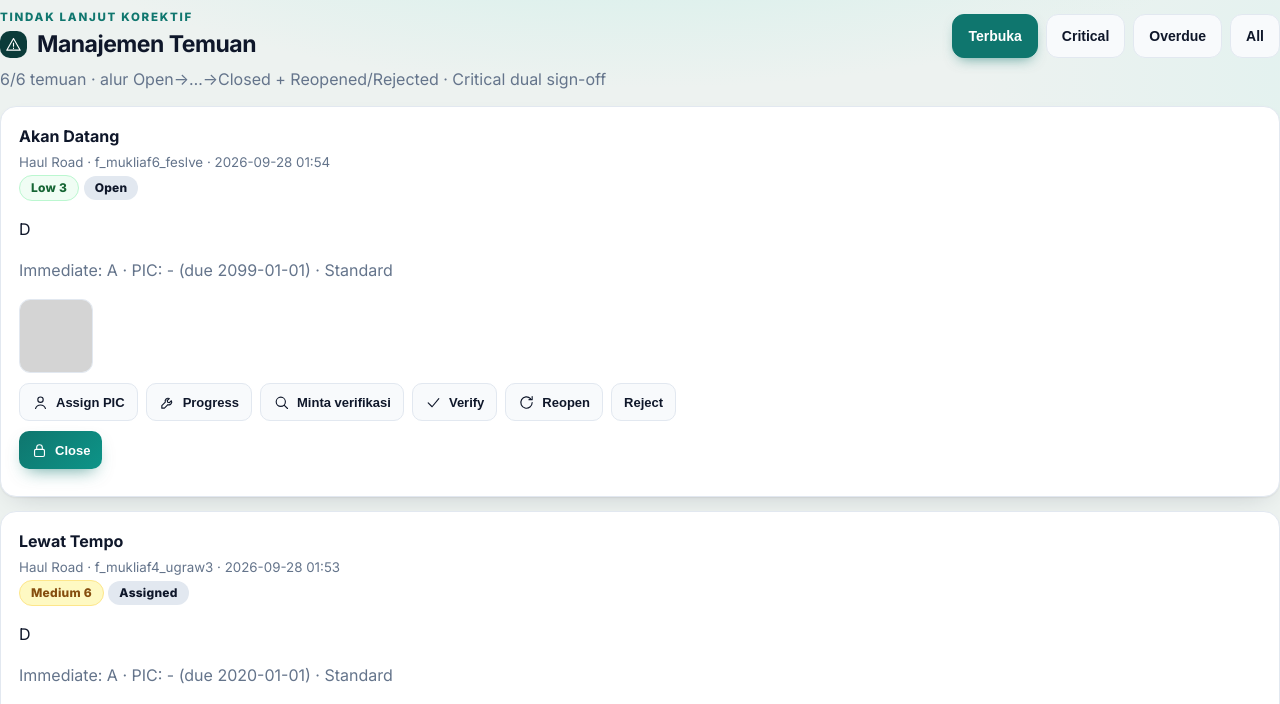
Findings › PATROL ditolak verify/close; CRITICAL dual sign-off HSE_ADMIN
The width and height of the screenshot is (1280, 704).
Expected: the heading "Manajemen Temuan" is shown, [0,30,256,58]
Click the button "Verify".
click(455, 402)  # box [412,383,497,421]
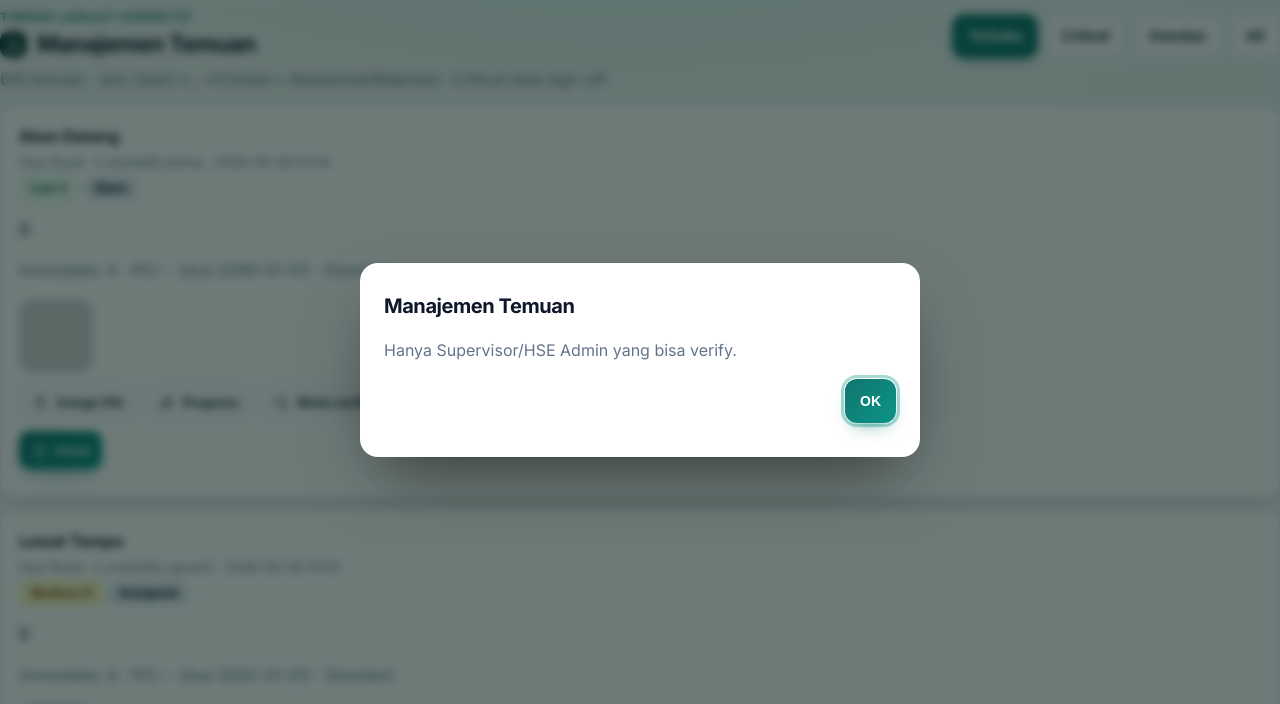
Now the text "Hanya Supervisor/HSE Admin yang bisa verify." is shown, box [384,340,737,360]
Click the button "OK".
click(870, 401)  # box [845,379,896,423]
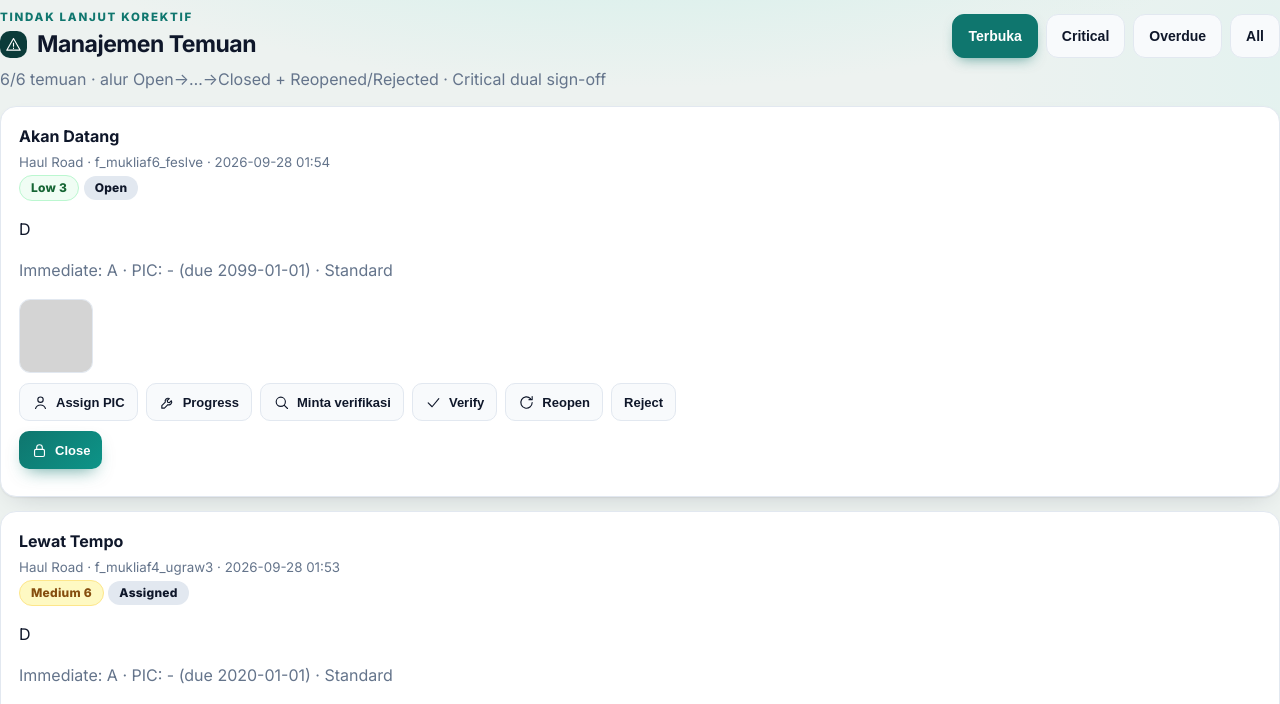
Click the button "Close".
click(61, 450)  # box [19,431,102,469]
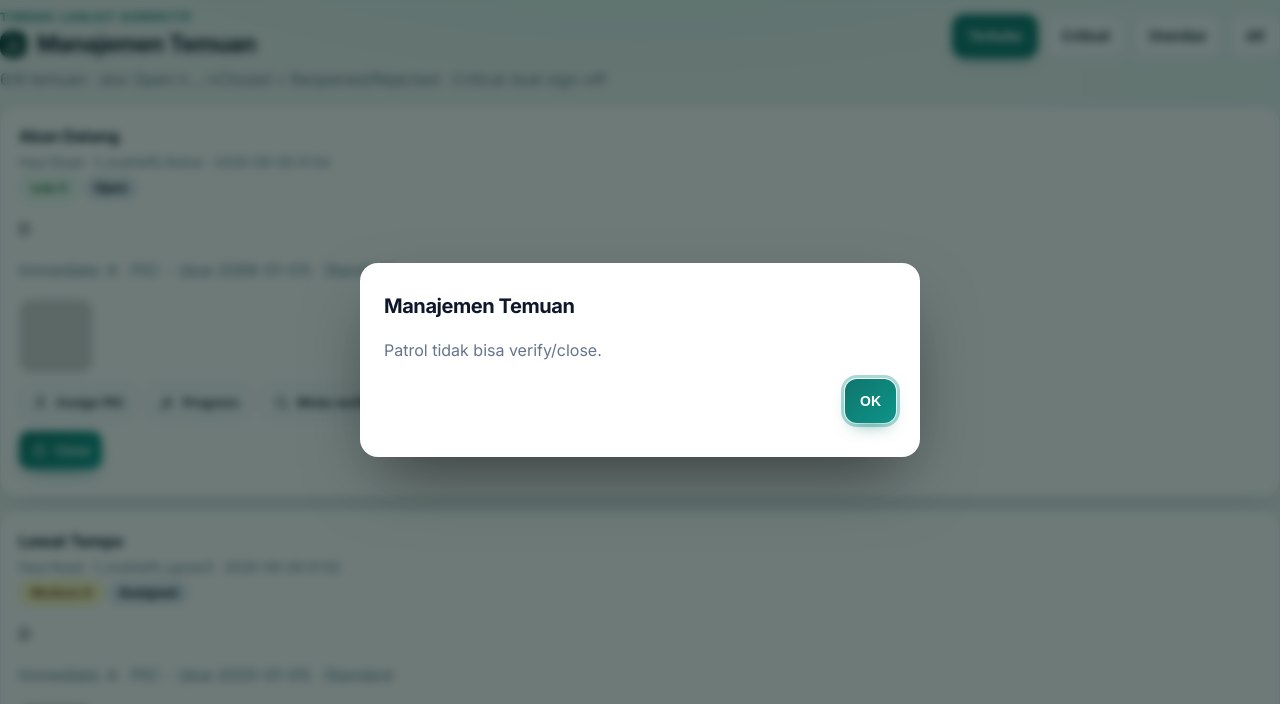
Now the text "Patrol tidak bisa verify/close." is shown, box [384,340,602,360]
